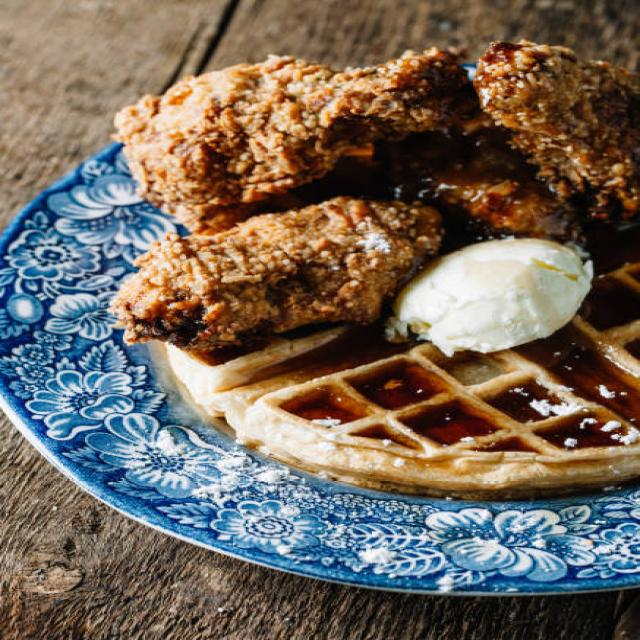Frango: (110, 34, 640, 365)
